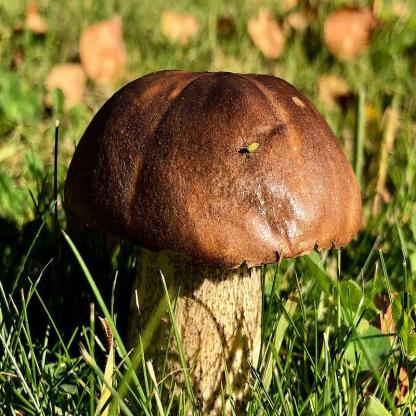aphid: (240, 138, 261, 156)
